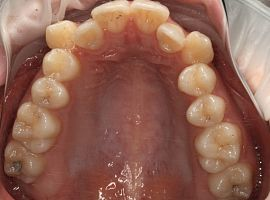UL1BC_healthy: (178, 69, 215, 95)
UL1M_decay: (197, 124, 240, 174)
UL2BC_decay: (187, 96, 223, 127)
UL2M_decay: (208, 163, 250, 199)
ULCI_healthy: (131, 3, 164, 32)
ULC_healthy: (179, 34, 210, 70)
ULLI_healthy: (155, 27, 183, 54)
UR1BC_healthy: (45, 51, 75, 80)
UR1M_healthy: (12, 103, 58, 150)
UR2BC_decay: (30, 78, 66, 107)
UR2M_decay: (3, 148, 44, 185)
URCI_decay: (93, 1, 129, 37)
URC_healthy: (44, 20, 77, 49)
URLI_healthy: (76, 19, 107, 51)
